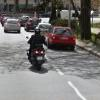Motorcycle: (21, 23, 52, 76)
